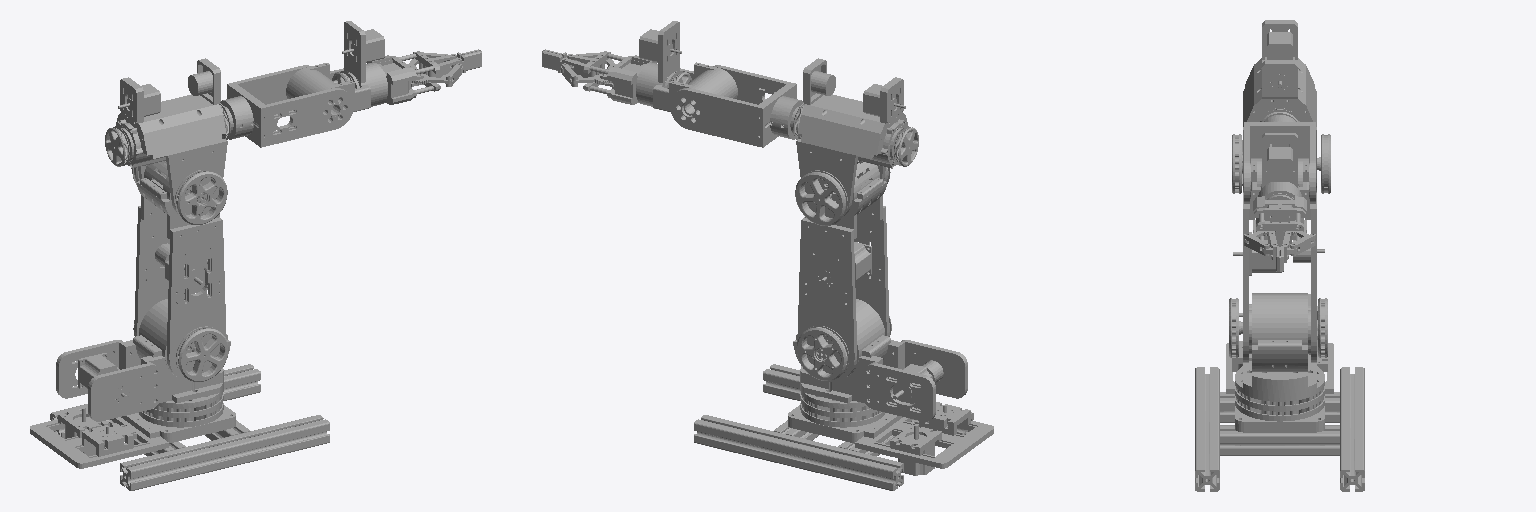
URDF robot description (urdf_assembly_2):
<?xml version="1.0" ?>
<!-- =================================================================================== -->
<!-- |    This document was autogenerated by xacro from ./urdf/urdf_assembly_2.xacro   | -->
<!-- |    EDITING THIS FILE BY HAND IS NOT RECOMMENDED                                 | -->
<!-- =================================================================================== -->
<robot name="urdf_assembly_2">
  <material name="silver">
    <color rgba="0.700 0.700 0.700 1.000"/>
  </material>

  <link name="base_link">
    <inertial>
      <origin rpy="0 0 0" xyz="-0.0342362509848714 -0.0039161533991028665 -0.02839103797627507"/>
      <mass value="2.2003666449760275"/>
      <inertia ixx="0.015633" ixy="0.000363" ixz="0.001133" iyy="0.02691" iyz="0.000114" izz="0.040737"/>
    </inertial>
    <visual>
      <origin rpy="0 0 0" xyz="0 0 0"/>
      <geometry>
        <mesh filename="meshes/base_link.stl" scale="0.001 0.001 0.001"/>
      </geometry>
      <material name="silver"/>
    </visual>
    <collision>
      <origin rpy="0 0 0" xyz="0 0 0"/>
      <geometry>
        <mesh filename="meshes/base_link.stl" scale="0.001 0.001 0.001"/>
      </geometry>
    </collision>
  </link>
  <link name="link_1_1">
    <inertial>
      <origin rpy="0 0 0" xyz="-0.03473888377200399 0.0006648494543459067 0.07800139222078076"/>
      <mass value="15.038966546923882"/>
      <inertia ixx="0.05038" ixy="0.001073" ixz="0.005378" iyy="0.107214" iyz="-0.000117" izz="0.097015"/>
    </inertial>
    <visual>
      <origin rpy="0 0 0" xyz="0.002859 0.005179 0.00232"/>
      <geometry>
        <mesh filename="meshes/link_1_1.stl" scale="0.001 0.001 0.001"/>
      </geometry>
      <material name="silver"/>
    </visual>
    <collision>
      <origin rpy="0 0 0" xyz="0.002859 0.005179 0.00232"/>
      <geometry>
        <mesh filename="meshes/link_1_1.stl" scale="0.001 0.001 0.001"/>
      </geometry>
    </collision>
  </link>
  <link name="link_2_1">
    <inertial>
      <origin rpy="0 0 0" xyz="2.601990558093962e-05 -0.0008884927878232626 0.13687536190298447"/>
      <mass value="12.313102715674546"/>
      <inertia ixx="0.196874" ixy="-0.0" ixz="-5.2e-05" iyy="0.179594" iyz="-0.000195" izz="0.037663"/>
    </inertial>
    <visual>
      <origin rpy="0 0 0" xyz="0.002859 0.005179 -0.13368"/>
      <geometry>
        <mesh filename="meshes/link_2_1.stl" scale="0.001 0.001 0.001"/>
      </geometry>
      <material name="silver"/>
    </visual>
    <collision>
      <origin rpy="0 0 0" xyz="0.002859 0.005179 -0.13368"/>
      <geometry>
        <mesh filename="meshes/link_2_1.stl" scale="0.001 0.001 0.001"/>
      </geometry>
    </collision>
  </link>
  <link name="link_3_1">
    <inertial>
      <origin rpy="0 0 0" xyz="-0.01628301021334254 0.00016122524353749754 0.07497927196563697"/>
      <mass value="9.121346283290388"/>
      <inertia ixx="0.062586" ixy="-2.5e-05" ixz="0.007821" iyy="0.063998" iyz="0.000107" izz="0.038355"/>
    </inertial>
    <visual>
      <origin rpy="0 0 0" xyz="0.002698 0.005179 -0.432846"/>
      <geometry>
        <mesh filename="meshes/link_3_1.stl" scale="0.001 0.001 0.001"/>
      </geometry>
      <material name="silver"/>
    </visual>
    <collision>
      <origin rpy="0 0 0" xyz="0.002698 0.005179 -0.432846"/>
      <geometry>
        <mesh filename="meshes/link_3_1.stl" scale="0.001 0.001 0.001"/>
      </geometry>
    </collision>
  </link>
  <link name="link_4_1">
    <inertial>
      <origin rpy="0 0 0" xyz="0.06639448325545491 0.0006371339116822963 -1.5979938389532045e-05"/>
      <mass value="6.333915973707803"/>
      <inertia ixx="0.010346" ixy="-0.000175" ixz="1e-05" iyy="0.102497" iyz="5e-06" izz="0.108204"/>
    </inertial>
    <visual>
      <origin rpy="0 0 0" xyz="-0.057302 0.005179 -0.530733"/>
      <geometry>
        <mesh filename="meshes/link_4_1.stl" scale="0.001 0.001 0.001"/>
      </geometry>
      <material name="silver"/>
    </visual>
    <collision>
      <origin rpy="0 0 0" xyz="-0.057302 0.005179 -0.530733"/>
      <geometry>
        <mesh filename="meshes/link_4_1.stl" scale="0.001 0.001 0.001"/>
      </geometry>
    </collision>
  </link>
  <link name="link_5_1">
    <inertial>
      <origin rpy="0 0 0" xyz="0.05519576996196435 8.727471742780296e-08 0.020926890757093308"/>
      <mass value="3.395965317211299"/>
      <inertia ixx="0.007088" ixy="0.0" ixz="-0.002334" iyy="0.011532" iyz="-0.0" izz="0.008294"/>
    </inertial>
    <visual>
      <origin rpy="0 0 0" xyz="-0.274302 0.005096 -0.530663"/>
      <geometry>
        <mesh filename="meshes/link_5_1.stl" scale="0.001 0.001 0.001"/>
      </geometry>
      <material name="silver"/>
    </visual>
    <collision>
      <origin rpy="0 0 0" xyz="-0.274302 0.005096 -0.530663"/>
      <geometry>
        <mesh filename="meshes/link_5_1.stl" scale="0.001 0.001 0.001"/>
      </geometry>
    </collision>
  </link>
  <link name="link_6_1">
    <inertial>
      <origin rpy="0 0 0" xyz="-0.003933804309610656 1.3555235880025746e-07 -2.1343392964112695e-07"/>
      <mass value="0.19190462961219334"/>
      <inertia ixx="9.1e-05" ixy="0.0" ixz="-0.0" iyy="5.2e-05" iyz="-0.0" izz="5.2e-05"/>
    </inertial>
    <visual>
      <origin rpy="0 0 0" xyz="-0.391802 0.005096 -0.530663"/>
      <geometry>
        <mesh filename="meshes/link_6_1.stl" scale="0.001 0.001 0.001"/>
      </geometry>
      <material name="silver"/>
    </visual>
    <collision>
      <origin rpy="0 0 0" xyz="-0.391802 0.005096 -0.530663"/>
      <geometry>
        <mesh filename="meshes/link_6_1.stl" scale="0.001 0.001 0.001"/>
      </geometry>
    </collision>
  </link>
  <link name="link_7_1">
    <inertial>
      <origin rpy="0 0 0" xyz="0.05912945593498742 9.350275258987462e-07 -0.0011405877959500543"/>
      <mass value="2.520414679263601"/>
      <inertia ixx="0.001981" ixy="1e-06" ixz="-9.8e-05" iyy="0.006996" iyz="0.0" izz="0.007915"/>
    </inertial>
    <visual>
      <origin rpy="0 0 0" xyz="-0.606632  0.005096 -0.530663"/>
      <geometry>
        <mesh filename="meshes/link_7_1.stl" scale="0.001 0.001 0.001"/>
      </geometry>
      <material name="silver"/>
    </visual>
    <collision>
      <origin rpy="0 0 0" xyz="-0.396802 0.005096 -0.530663"/>
      <geometry>
        <mesh filename="meshes/link_7_1.stl" scale="0.001 0.001 0.001"/>
      </geometry>
    </collision>
  </link>
  <joint name="joint_1" type="revolute">
    <origin rpy="0 0 0" xyz="-0.002859 -0.005179 -0.00232"/>
    <parent link="base_link"/>
    <child link="link_1_1"/>
    <axis xyz="0.0 0.0 1.0"/>
    <limit effort="100" lower="-2.094395" upper="2.094395" velocity="100"/>
  </joint>
  <joint name="joint_2" type="revolute">
    <origin rpy="0 0 0" xyz="0.0 0.0 0.136"/>
    <parent link="link_1_1"/>
    <child link="link_2_1"/>
    <axis xyz="-0.0 -1.0 -0.0"/>
    <limit effort="100" lower="-1.570796" upper="0.947714" velocity="100"/>
  </joint>
  <joint name="joint_3" type="revolute">
    <origin rpy="0 0 0" xyz="0.000161 0.0 0.299166"/>
    <parent link="link_2_1"/>
    <child link="link_3_1"/>
    <axis xyz="-0.0 -1.0 0.0"/>
    <limit effort="100" lower="-1.570796" upper="1.570796" velocity="100"/>
  </joint>
  <joint name="joint_4" type="revolute">
    <origin rpy="0 0 0" xyz="0.06 0.0 0.097887"/>
    <parent link="link_3_1"/>
    <child link="link_4_1"/>
    <axis xyz="1.0 -0.0 0.0"/>
    <limit effort="100" lower="-3.141593" upper="3.141593" velocity="100"/>
  </joint>
  <joint name="joint_5" type="revolute">
    <origin rpy="0 0 0" xyz="0.217 8.3e-05 -7e-05"/>
    <parent link="link_4_1"/>
    <child link="link_5_1"/>
    <axis xyz="-0.0 -1.0 0.0"/>
    <limit effort="100" lower="-2.356194" upper="2.007129" velocity="100"/>
  </joint>
  <joint name="joint_6" type="revolute">
    <origin rpy="0 0 0" xyz="0.1175 0.0 0.0"/>
    <parent link="link_5_1"/>
    <child link="link_6_1"/>
    <axis xyz="1.0 0.0 0.0"/>
    <limit effort="100" lower="-3.141593" upper="3.141593" velocity="100"/>
  </joint>
  <joint name="joint_7" type="fixed">
    <origin rpy="0 0 0" xyz="0.20982 0.0 0.0"/>
    <parent link="link_6_1"/>
    <child link="link_7_1"/>
  </joint>
</robot>

--- What the picture shows (computed from the rendered views, not written in the file) ---
Views: 3 orthographic renders of the robot side by side, from view 1: azimuth 30°, elevation 25°; view 2: azimuth 150°, elevation 25°; view 3: azimuth 270°, elevation 25°.
Robot: urdf_assembly_2 — 8 links, 7 joints (6 revolute, 1 fixed); root link base_link; default pose: every joint at zero.
Links seen in each view (by area): view 1: base_link, link_2_1, link_3_1, link_1_1, link_4_1, link_5_1, link_7_1; view 2: base_link, link_2_1, link_3_1, link_1_1, link_4_1, link_5_1, link_7_1; view 3: base_link, link_1_1, link_3_1, link_2_1, link_7_1, link_5_1, link_4_1.
Link boxes in pixels (x1,y1,x2,y2): base_link: (30, 364, 329, 490); link_2_1: (133, 161, 228, 381); link_3_1: (115, 58, 227, 224); link_1_1: (56, 299, 230, 427); link_4_1: (105, 65, 353, 166); link_5_1: (286, 21, 387, 111); link_7_1: (367, 49, 481, 104); base_link: (694, 364, 993, 490); link_2_1: (796, 161, 891, 381); link_3_1: (795, 58, 908, 225); link_1_1: (793, 299, 967, 427); link_4_1: (670, 65, 918, 166); link_5_1: (636, 21, 737, 111); link_7_1: (542, 49, 656, 104); base_link: (1195, 341, 1364, 491); link_1_1: (1235, 293, 1324, 421); link_3_1: (1232, 20, 1330, 193); link_2_1: (1229, 193, 1327, 362); link_7_1: (1244, 196, 1315, 271); link_5_1: (1251, 133, 1308, 211); link_4_1: (1244, 109, 1315, 203).
Bounding box of the posed robot: 0.8595 × 0.28 × 0.713 m (x, y, z).
8 mesh visuals loaded from 8 distinct referenced files (8 binary STL).